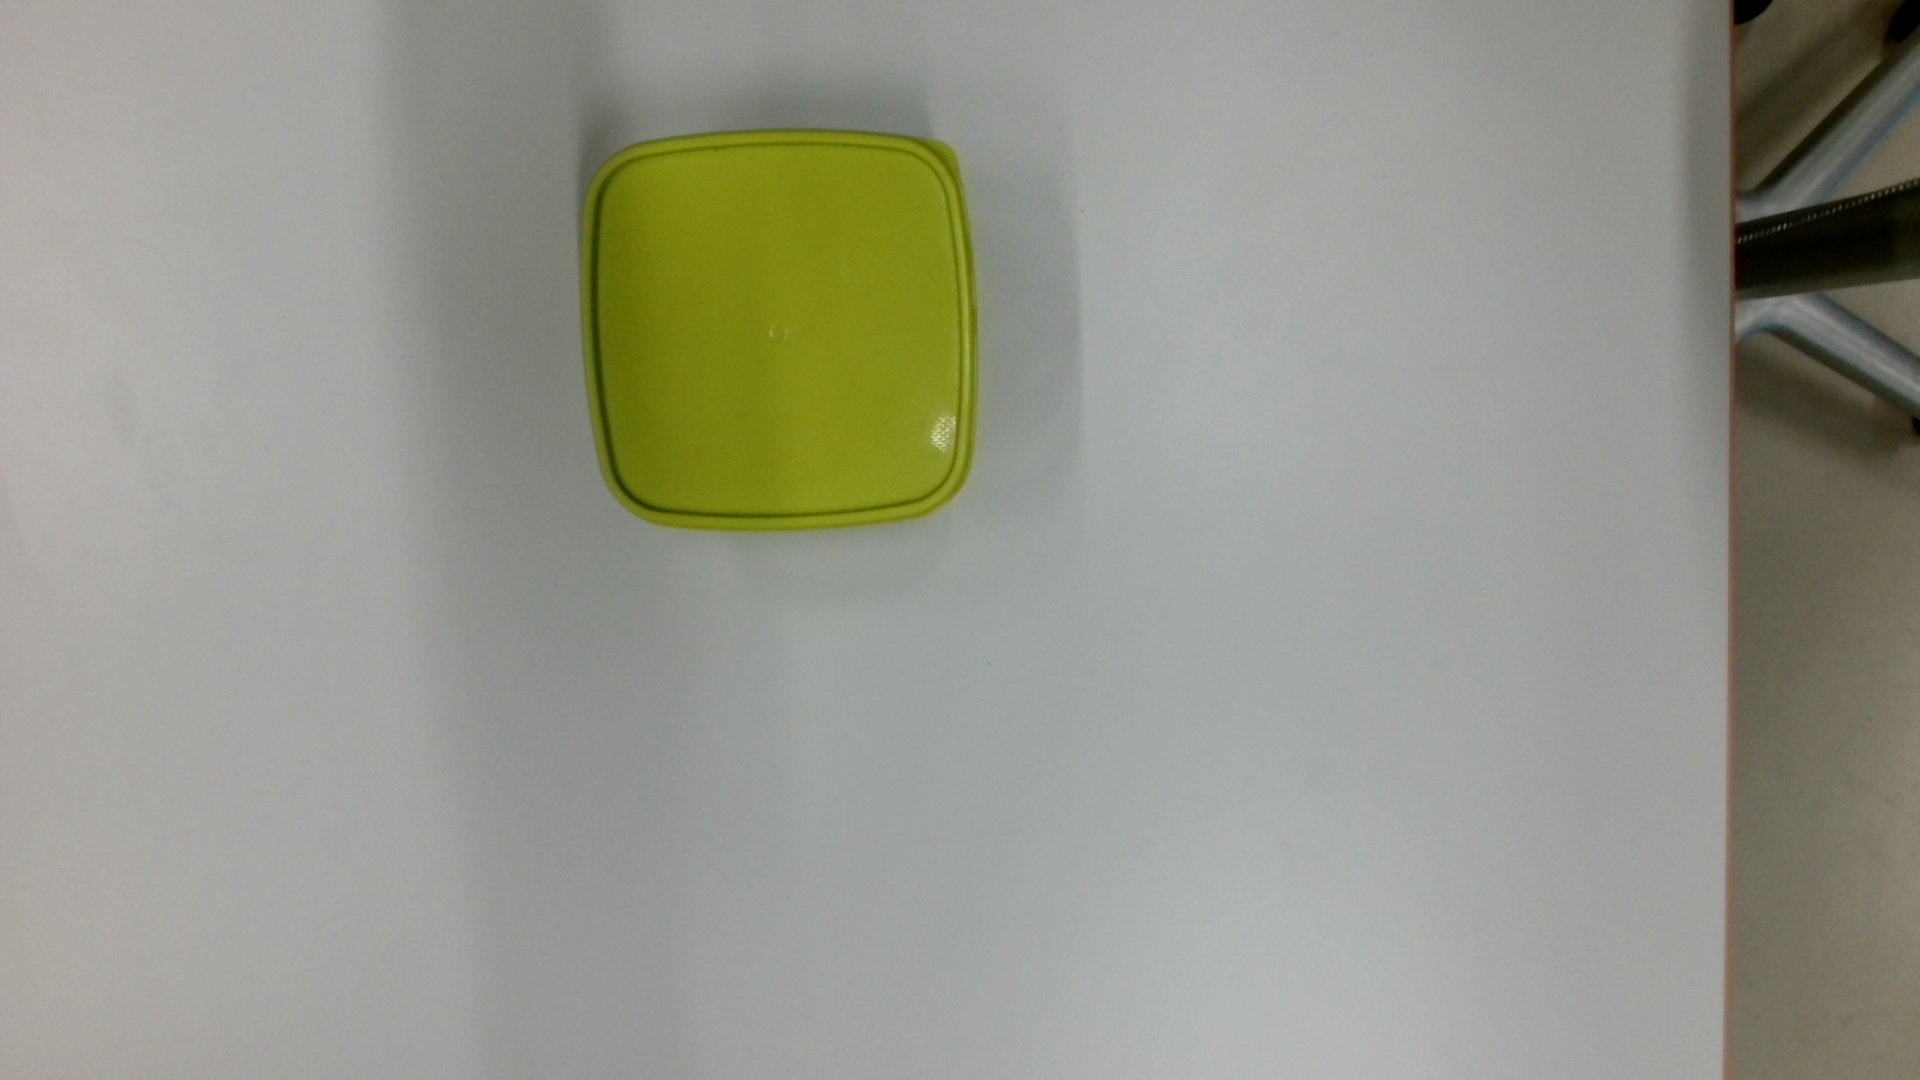Box: (568, 119, 986, 542)
